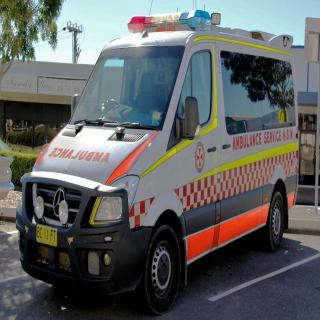Ambulance: (10, 8, 312, 316)
